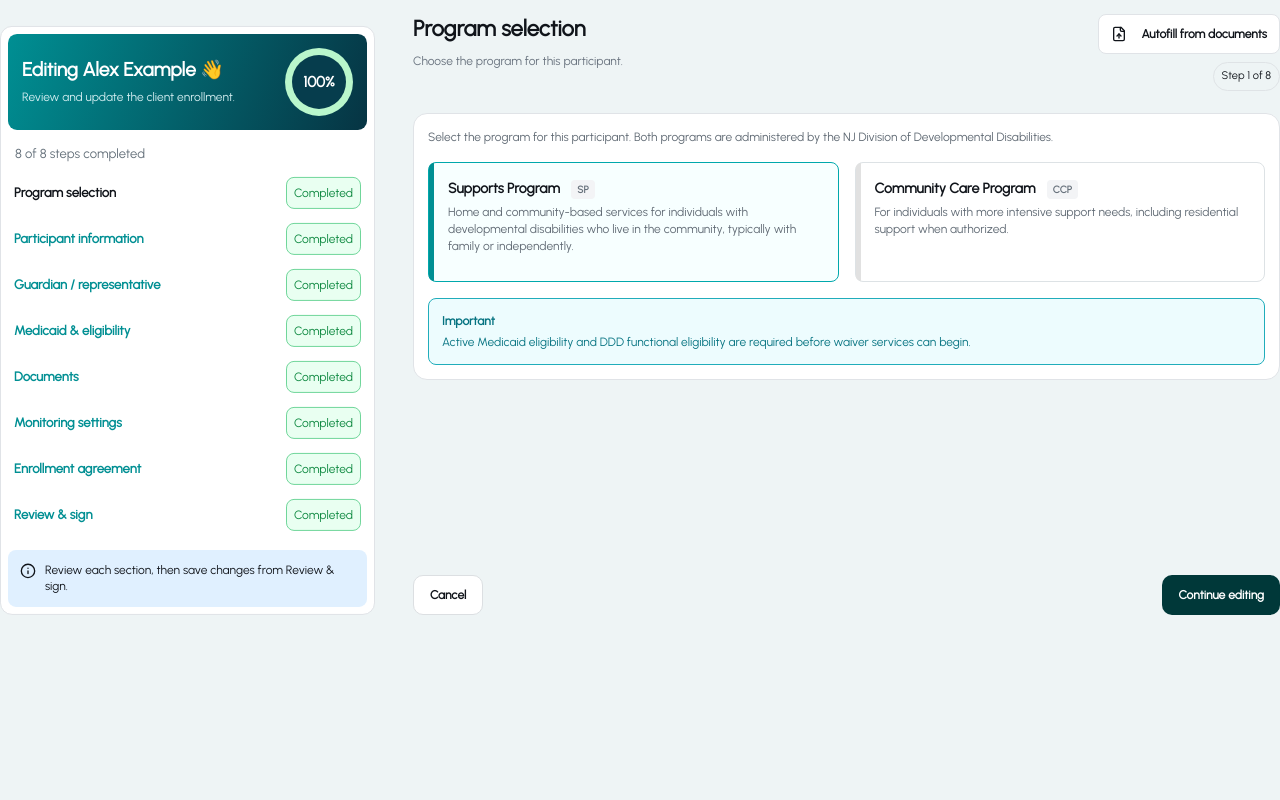
unchanged saved settings are loaded authoritatively and are not written again
The width and height of the screenshot is (1280, 800).
Expected: the text "Editing Alex Example" is shown, x1=22 y1=58 x2=196 y2=81
Step 1. Click the button "Monitoring settings Completed" → (68, 422), box x1=8 y1=399 x2=367 y2=445
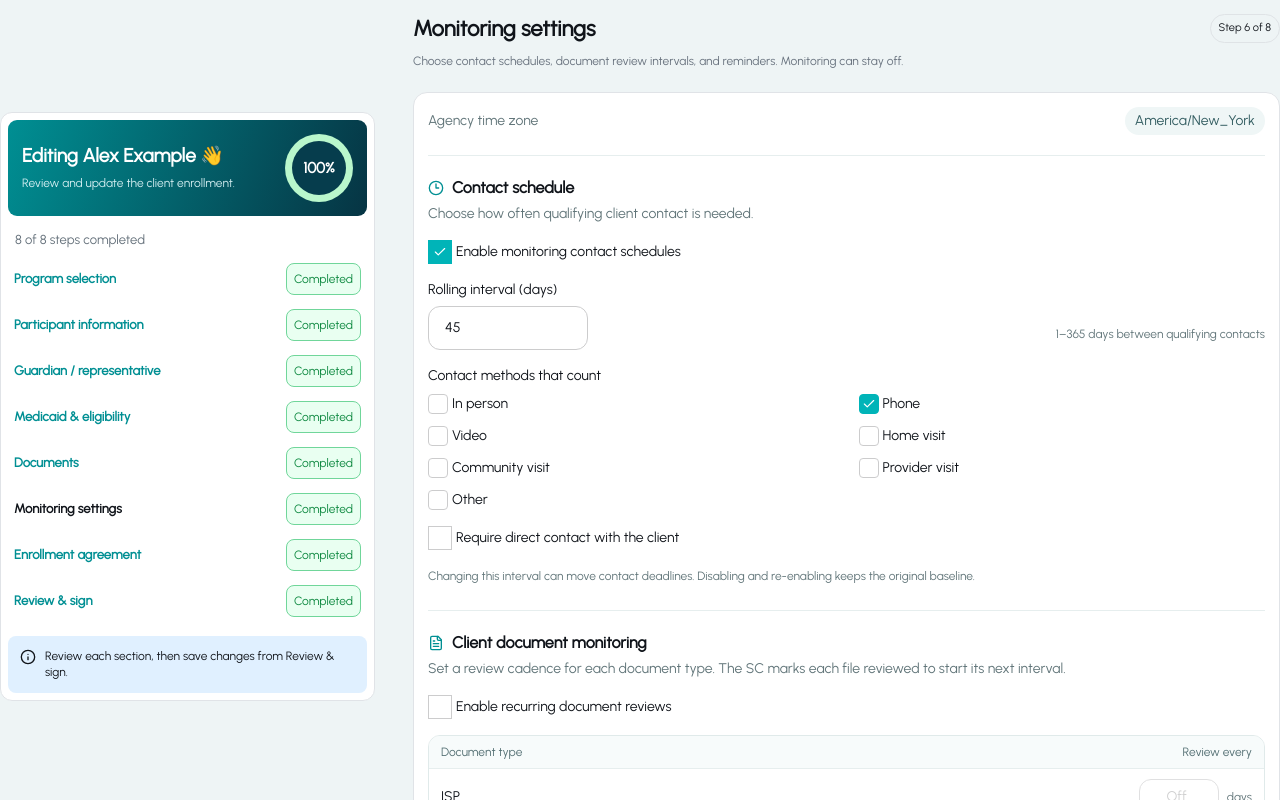
Expected: the checkbox labelled "Enable monitoring contact schedules" is shown, x1=428 y1=240 x2=681 y2=264
Expected: the text "America/New_York" is shown, x1=1125 y1=107 x2=1265 y2=135
Expected: the number field labelled "Rolling interval (days)" holds "45", x1=428 y1=306 x2=588 y2=350
Step 2. Click the button "Review & sign Completed" → (53, 600), box x1=8 y1=578 x2=367 y2=624
(page scrolled)
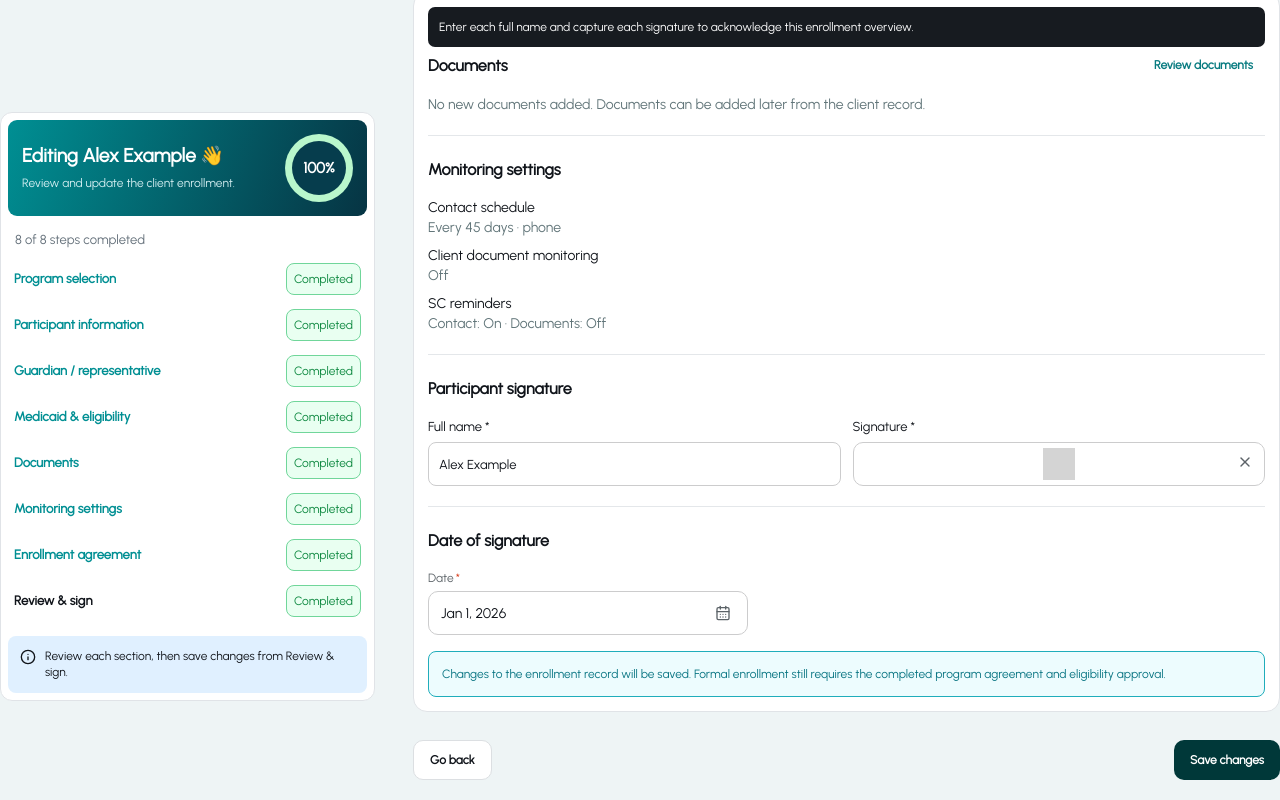
Step 3. Click the button "Save changes" → (1227, 760), box x1=1174 y1=740 x2=1279 y2=780
(page scrolled)
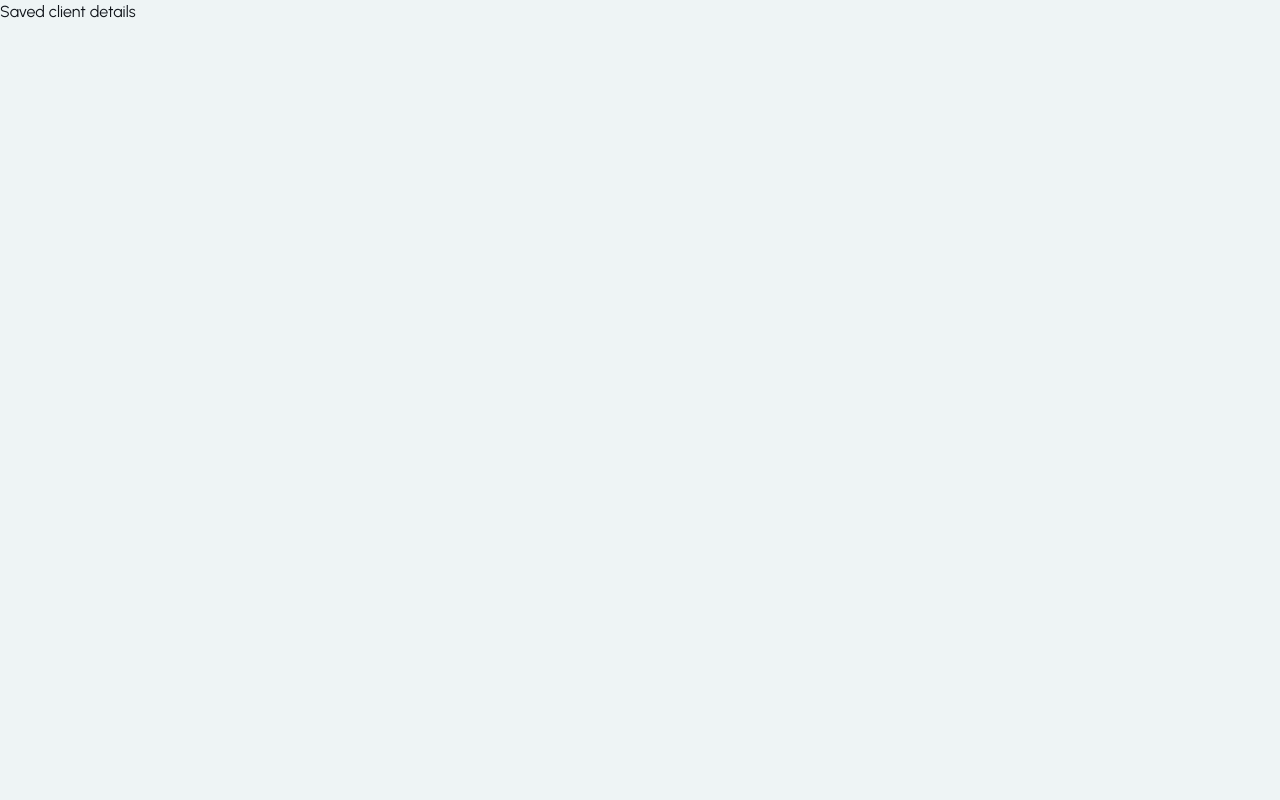
Expected: the text "Saved client details" is shown, x1=0 y1=2 x2=136 y2=21
